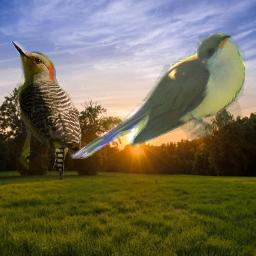Cuckoo: (69, 33, 245, 159)
Woodpecker: (11, 41, 82, 180)
